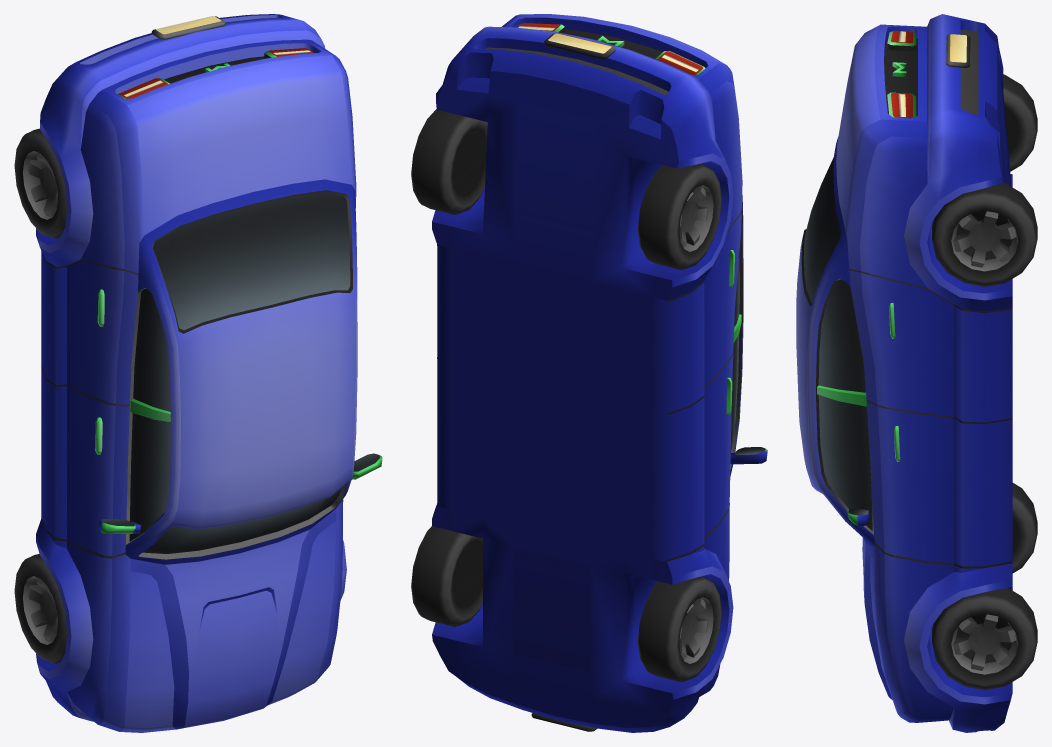
File: Car_2_2.fbx
3 renders of one model, left to right at view 1: azimuth 30°, elevation 25°; view 2: azimuth 150°, elevation 25°; view 3: azimuth 270°, elevation 25°, orthographic. The views are drawn at different scales.
Visible parts, largest first — view 1: car_2, wheel_RR.001, wheel_FR.001; view 2: car_2, wheel_RR.001, wheel_FR.001, wheel_RL.001, wheel_FL.001; view 3: car_2, wheel_RL.001, wheel_FL.001, wheel_RR.001, wheel_FR.001.
Boxes of the visible parts, bbox=[...] form: car_2: bbox=[36, 14, 382, 732]; wheel_RR.001: bbox=[14, 128, 67, 238]; wheel_FR.001: bbox=[14, 554, 67, 663]; car_2: bbox=[432, 14, 767, 732]; wheel_RR.001: bbox=[637, 164, 721, 270]; wheel_FR.001: bbox=[637, 576, 721, 682]; wheel_RL.001: bbox=[411, 109, 487, 214]; wheel_FL.001: bbox=[411, 526, 482, 626]; car_2: bbox=[796, 14, 1012, 732]; wheel_RL.001: bbox=[932, 182, 1037, 286]; wheel_FL.001: bbox=[932, 588, 1037, 689]; wheel_RR.001: bbox=[1003, 74, 1037, 171]; wheel_FR.001: bbox=[1012, 483, 1037, 573].
Size of the model in its own units: 172 by 406 by 135.
Materials: 1 (1 with a texture image).
